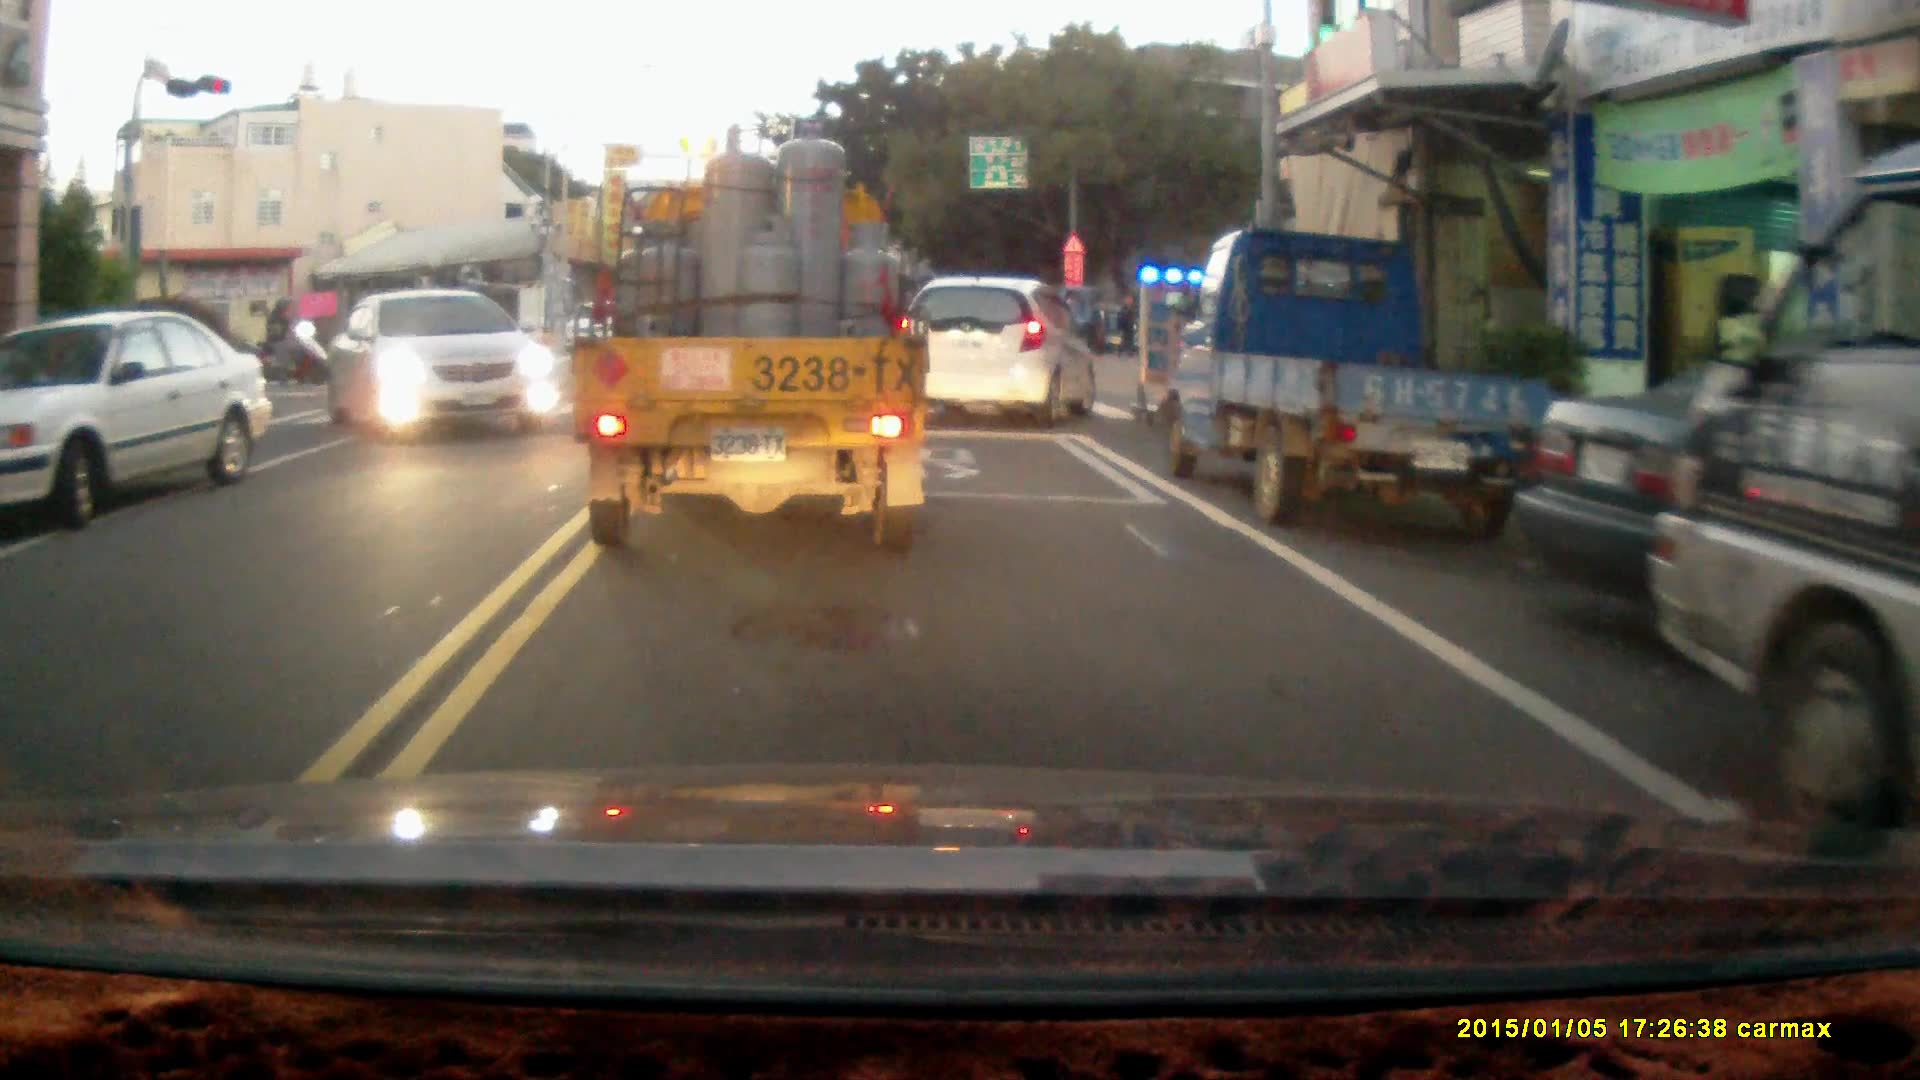rider: (243, 299, 327, 389)
vehicle: (1645, 152, 1920, 804), (570, 115, 933, 554), (1173, 228, 1555, 542), (3, 314, 268, 520), (321, 290, 561, 436), (902, 277, 1108, 425)
